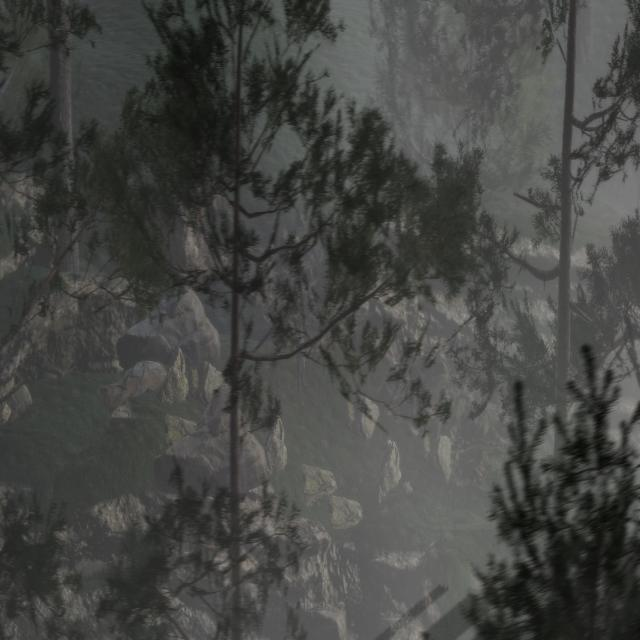Human: (287, 295, 312, 403)
